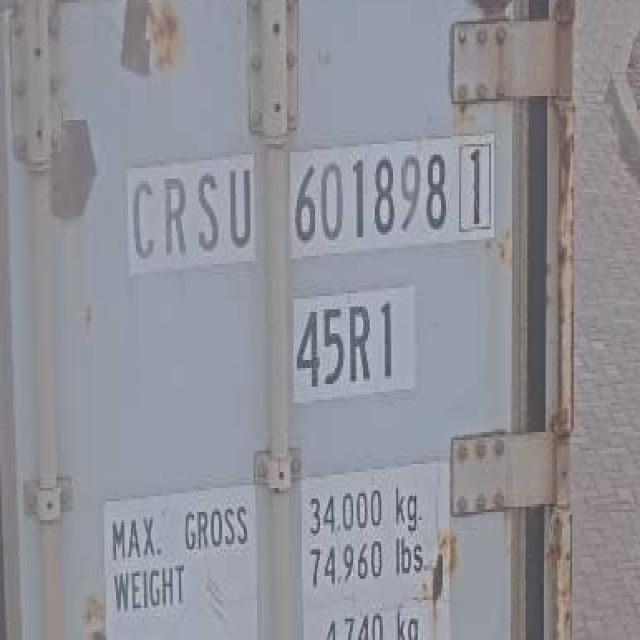dv: (458, 136, 496, 234)
owner: (122, 158, 258, 268)
serial: (289, 148, 452, 245)
size: (293, 294, 403, 396)
